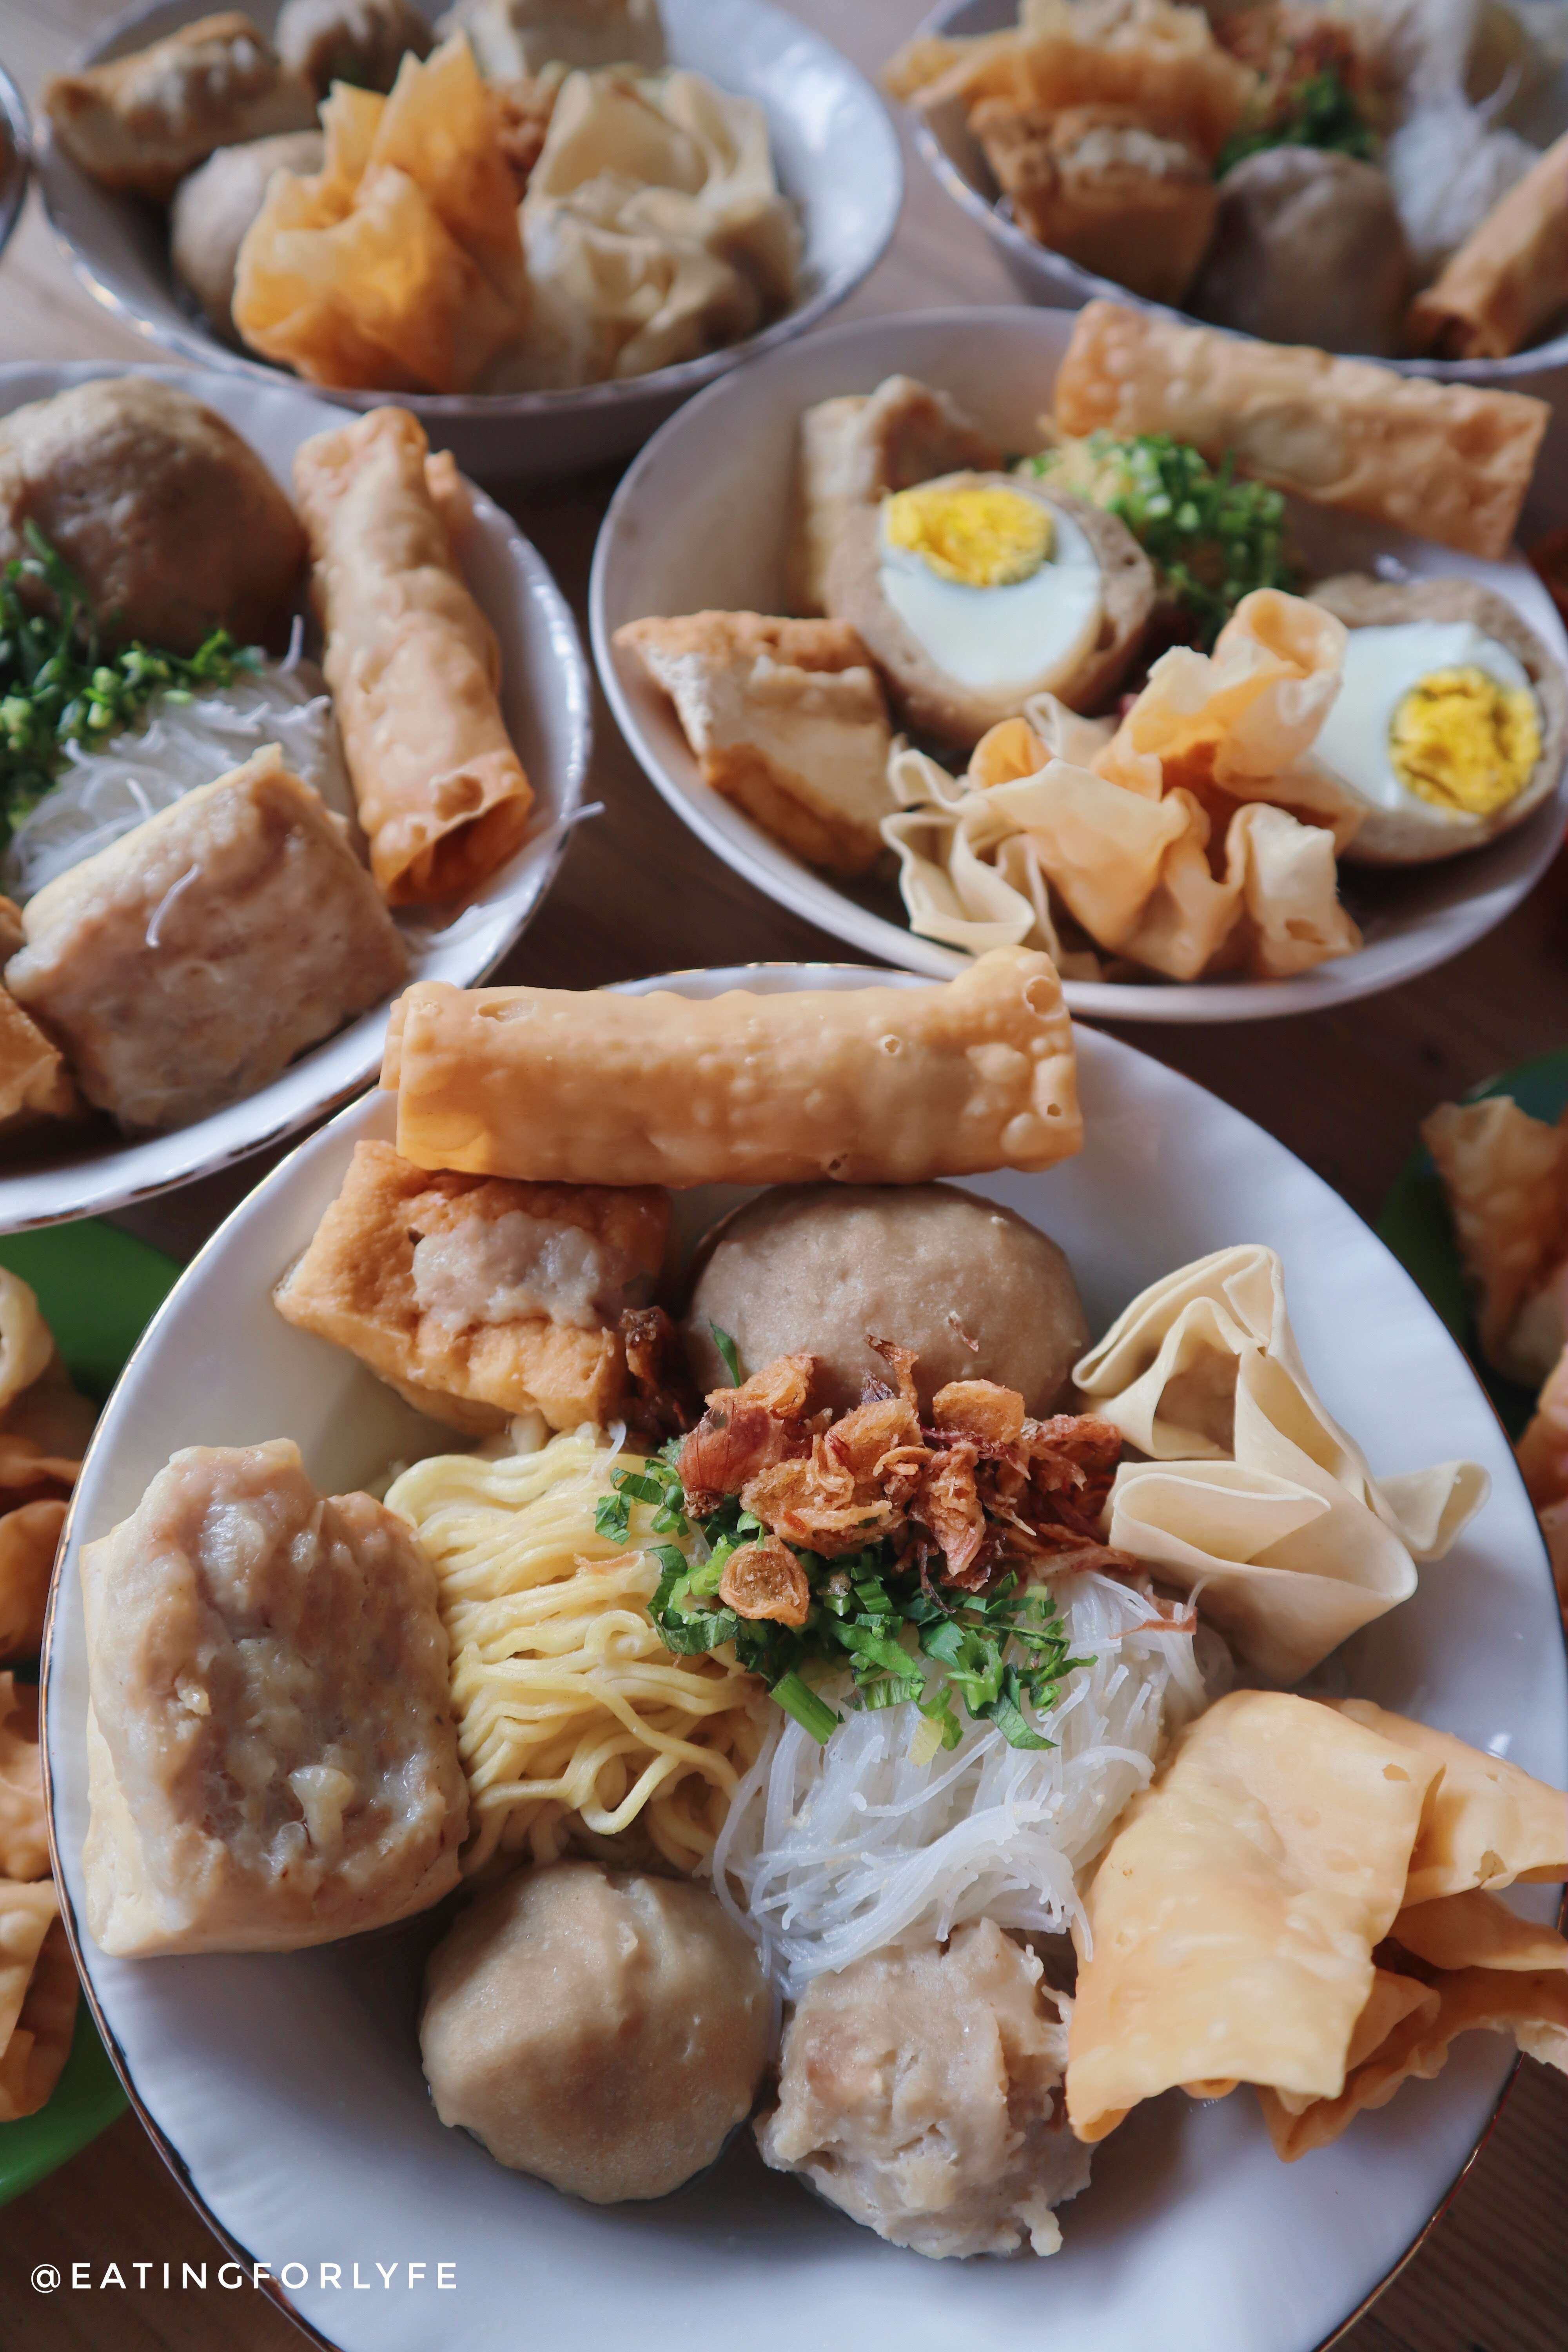bakso_malang: (86, 1001, 1568, 2268), (614, 308, 1568, 964), (14, 376, 544, 1122)
